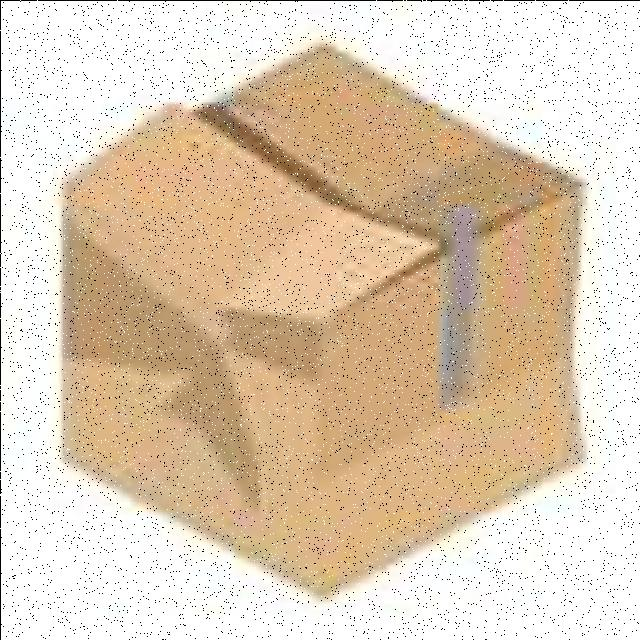defect: (52, 40, 591, 602)
